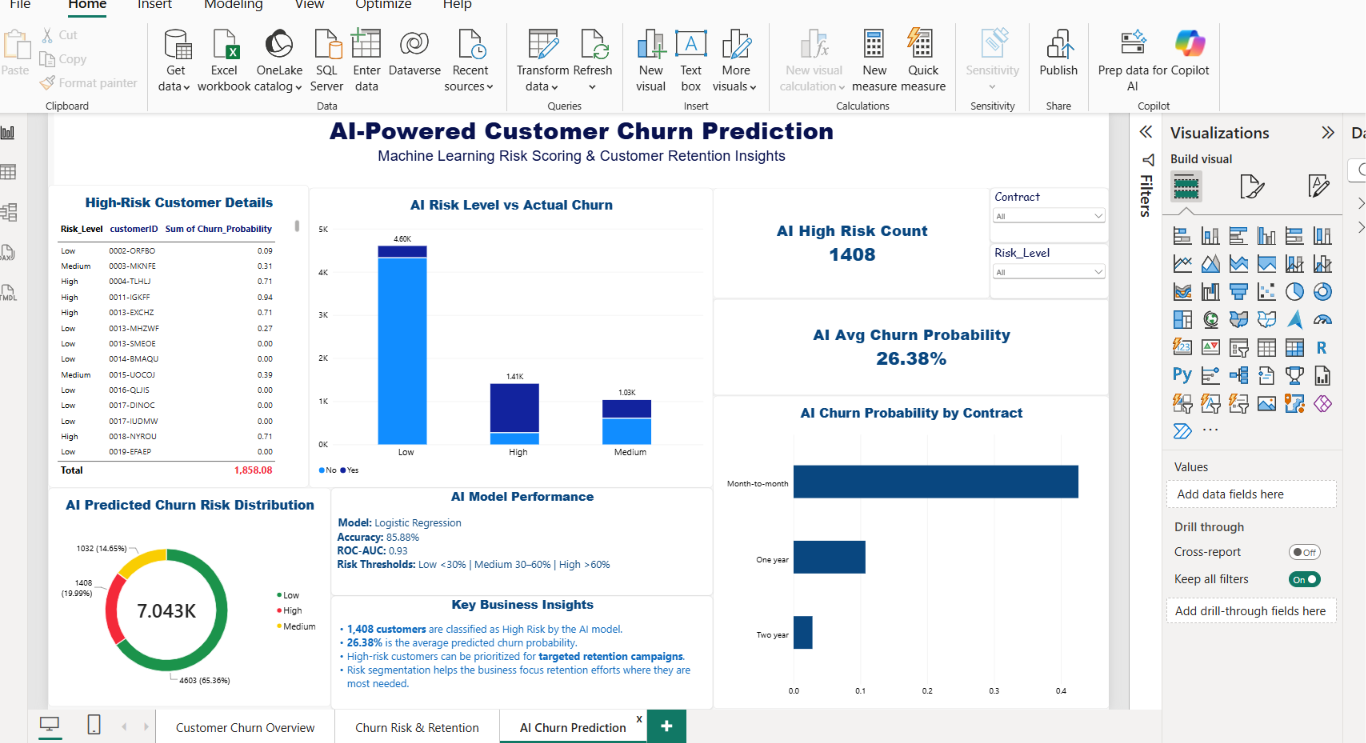

What the dashboard file says about the page in this screenshot:
{"tool":"powerbi","page":{"name":"AI Churn Prediction","canvas":[1920,1080],"ordinal":2},"visuals":[{"type":"textbox","title":"AI-Powered Customer Churn Prediction","box":[10.3,0,1910.1,135.8],"z":0},{"type":"donutChart","title":"AI Predicted Churn Risk Distribution","fields":{"Category":["Sheet1 (2).Risk_Level"],"Y":["CountNonNull(Sheet1 (2).customerID)"]},"box":[0,678.6,512.1,396.3],"z":1000},{"type":"cardVisual","fields":{"Data":["Sheet1 (2).AI High Risk Count"]},"box":[1203.2,135.5,502.3,200.9],"z":2000},{"type":"cardVisual","fields":{"Data":["Sheet1 (2).AI Avg Churn Probability"]},"box":[1203.1,337,717.3,175.7],"z":3000},{"type":"tableEx","title":"High-Risk Customer Details","fields":{"Values":["Sheet1 (2).Risk_Level","Sheet1 (2).customerID","Sum(Sheet1 (2).Churn_Probability)"]},"box":[0,130.3,472.3,548.3],"z":4000},{"type":"clusteredBarChart","title":"AI Churn Probability by Contract","fields":{"Category":["Sheet1.Contract"],"Y":["Avg(Sheet1 (2).Churn_Probability)"]},"box":[1203.1,512.7,717.3,566.4],"z":5000},{"type":"columnChart","title":"AI Risk Level vs Actual Churn","fields":{"Category":["Sheet1 (2).Risk_Level"],"Y":["CountNonNull(Sheet1 (2).customerID)"],"Series":["Sheet1 (2).Churn"]},"box":[472.3,135.7,731.1,542.9],"z":6000},{"type":"slicer","fields":{"Values":["Sheet1.Contract"]},"box":[1705.4,136.4,215,99.2],"z":7000},{"type":"slicer","fields":{"Values":["Sheet1 (2).Risk_Level"]},"box":[1705.4,237.7,215,99.2],"z":8000},{"type":"textbox","title":"AI Model Performance","box":[512.1,678.6,691.3,195.4],"z":9000},{"type":"textbox","title":"Key Business Insights","box":[511.7,873.8,691.6,205.6],"z":10000}]}

Visuals, with their boxes on the page's 1920x1080 design canvas (x1, y1, x2, y2). These are canvas units, not pixel positions in the 1366x743 screenshot, which may show the page scaled, cropped or inside an application window:
"AI-Powered Customer Churn Prediction" textbox: 10:0:1920:136
"AI Predicted Churn Risk Distribution" donutChart: 0:679:512:1075
cardVisual - Sheet1 (2).AI High Risk Count: 1203:136:1706:336
cardVisual - Sheet1 (2).AI Avg Churn Probability: 1203:337:1920:513
"High-Risk Customer Details" tableEx: 0:130:472:679
"AI Churn Probability by Contract" clusteredBarChart: 1203:513:1920:1079
"AI Risk Level vs Actual Churn" columnChart: 472:136:1203:679
slicer - Sheet1.Contract: 1705:136:1920:236
slicer - Sheet1 (2).Risk_Level: 1705:238:1920:337
"AI Model Performance" textbox: 512:679:1203:874
"Key Business Insights" textbox: 512:874:1203:1079
